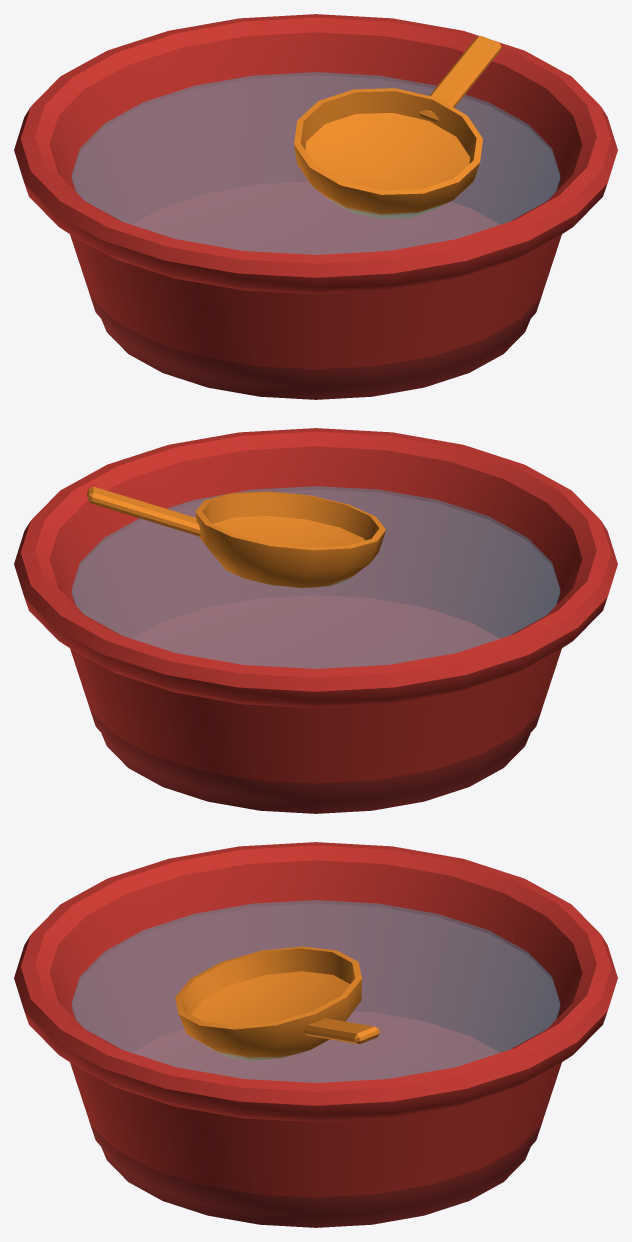
File: SC_Home_RubberBasin_M_Water.gltf
3 renders of one model, top to bottom at view 1: azimuth 30°, elevation 25°; view 2: azimuth 150°, elevation 25°; view 3: azimuth 270°, elevation 25°, orthographic.
Visible parts, largest first — view 1: SC_Home_RubberBasin_M_Water; view 2: SC_Home_RubberBasin_M_Water; view 3: SC_Home_RubberBasin_M_Water.
Part boxes in pixels (<box>): SC_Home_RubberBasin_M_Water: <box>14,14,617,399</box>; SC_Home_RubberBasin_M_Water: <box>14,428,617,813</box>; SC_Home_RubberBasin_M_Water: <box>14,842,617,1227</box>.
Size of the model in its own units: 0.63 by 0.2408 by 0.63.
2 materials, 2 textured.
